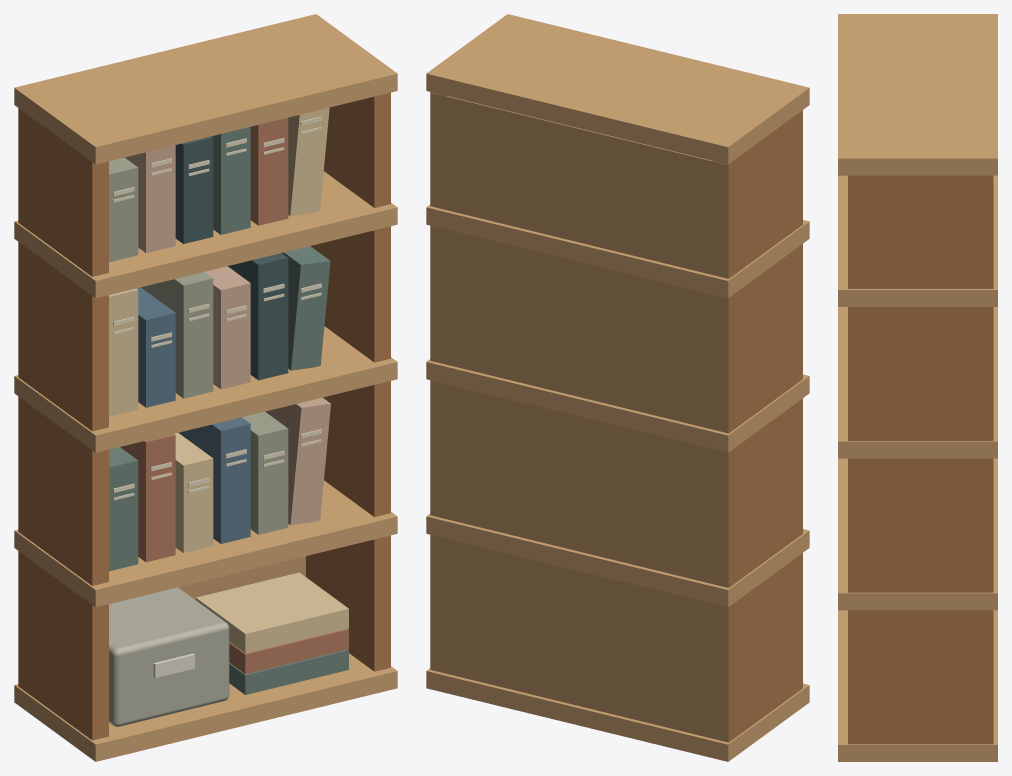
File: bookshelf.glb
3 renders of one model, left to right at view 1: azimuth 30°, elevation 25°; view 2: azimuth 150°, elevation 25°; view 3: azimuth 270°, elevation 25°, orthographic.
Bounding box in the file's own units: 1.37 × 2.66 × 0.64.
